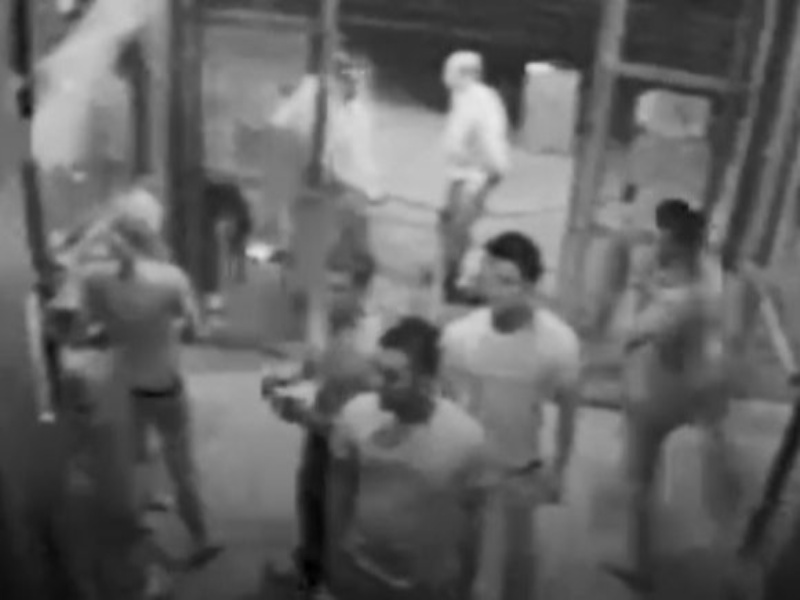person: (423, 229, 592, 600), (592, 180, 740, 585), (76, 190, 232, 572), (321, 316, 513, 600), (260, 245, 384, 585), (425, 46, 513, 314)
